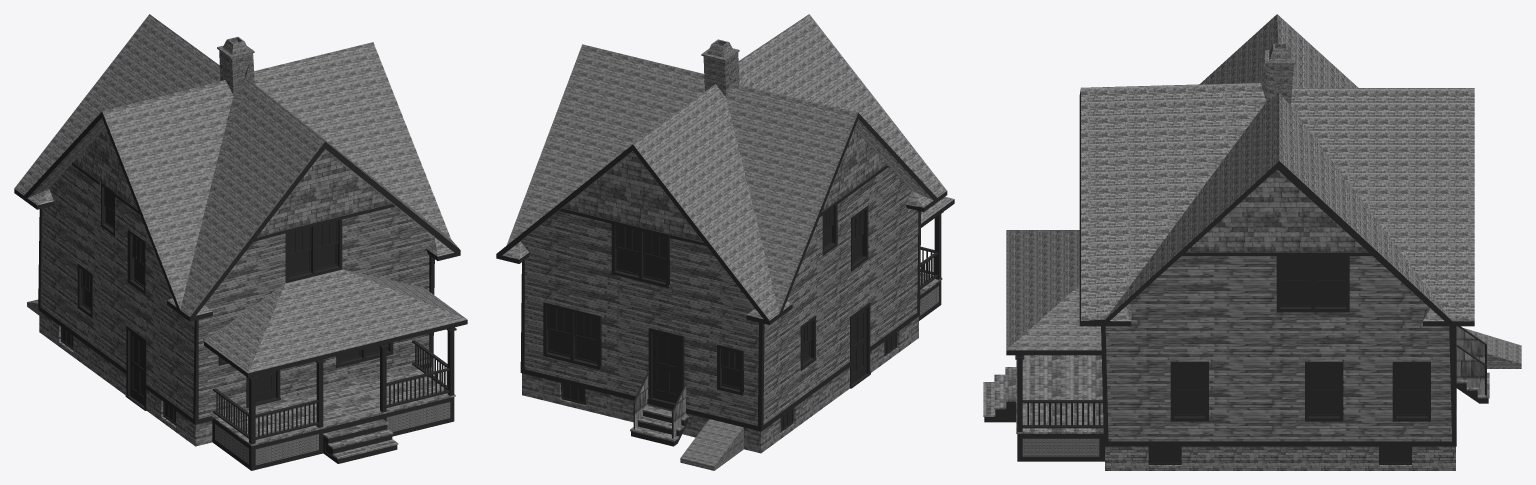
Rendered from CasaC.obj.
3 renders of one model, left to right at view 1: azimuth 30°, elevation 25°; view 2: azimuth 150°, elevation 25°; view 3: azimuth 270°, elevation 25°, orthographic. The views are drawn at different scales.
Visible parts, largest first — view 1: 3d_model; view 2: 3d_model; view 3: 3d_model.
Boxes of the visible parts, x1=… form: 3d_model: x1=14, y1=14, x2=467, y2=470; 3d_model: x1=496, y1=14, x2=954, y2=470; 3d_model: x1=983, y1=14, x2=1521, y2=470.
Size of the model in its own units: 387 by 434 by 589.
Materials: 1 (1 with a texture image).
